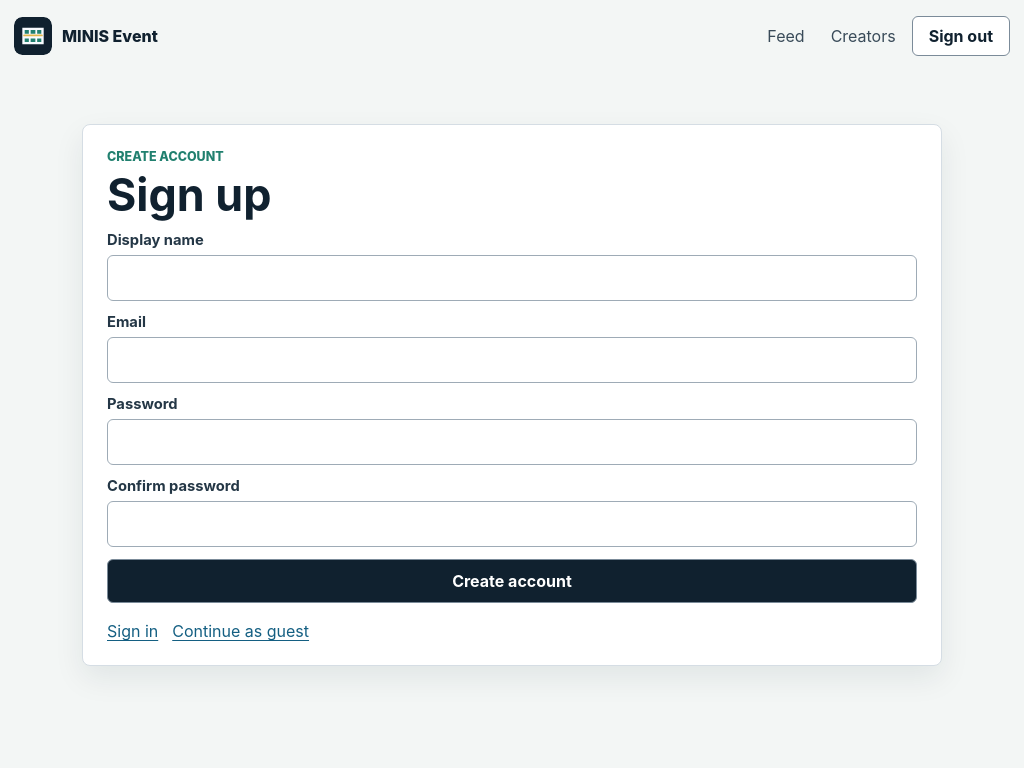
Test case: AppRoutes authentication routes › creates a Firebase password account and waits for email verification
Type "New Viewer" into the field labelled "Display name".
click(512, 278); type("New Viewer")  # box [107,255,917,301]
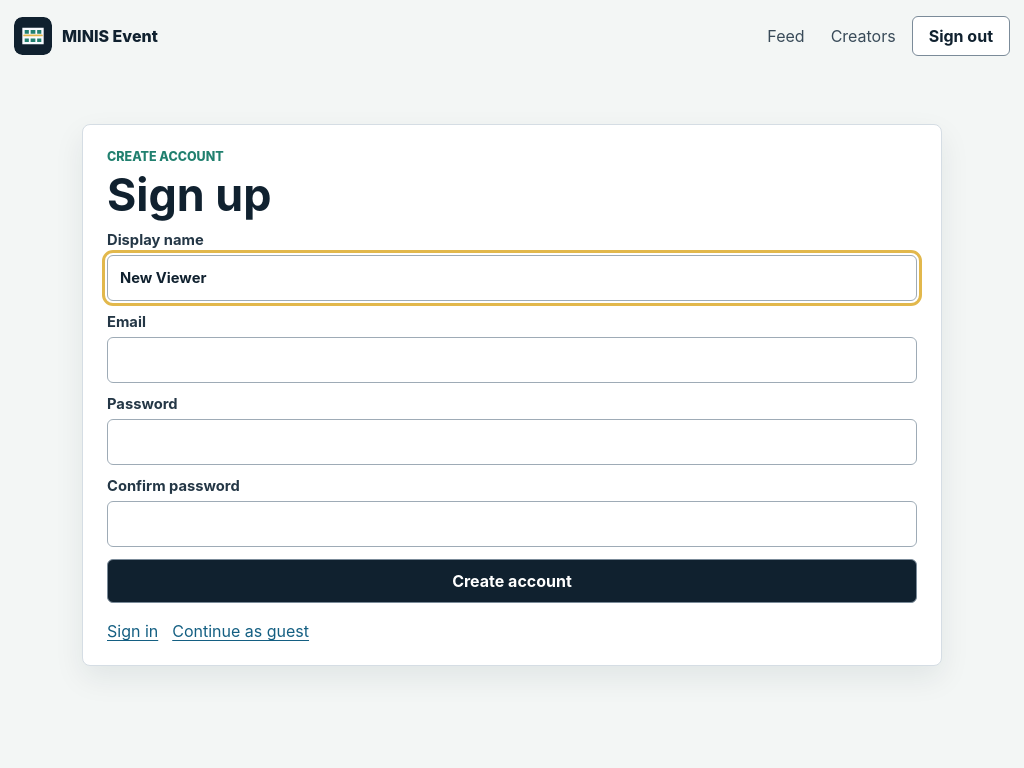
Type "NEW@example.com" into the field labelled "Email".
click(512, 360); type("NEW@example.com")  # box [107,337,917,383]
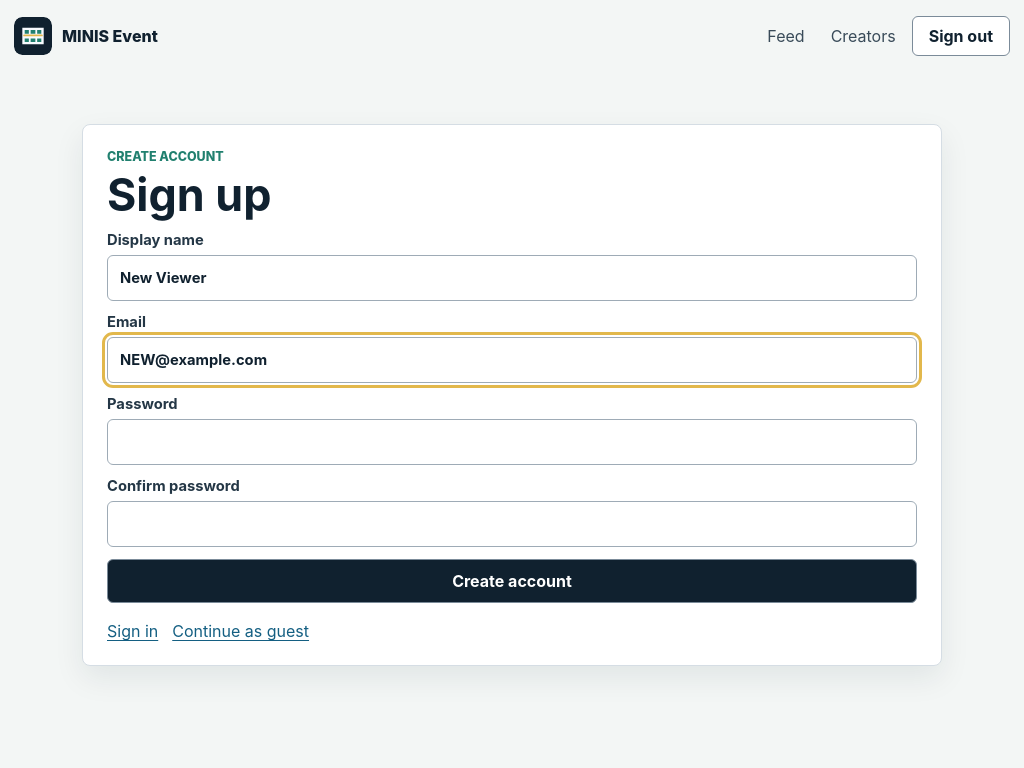
Type "viewer-password" into the password field labelled "Password".
click(512, 442); type("viewer-password")  # box [107,419,917,465]
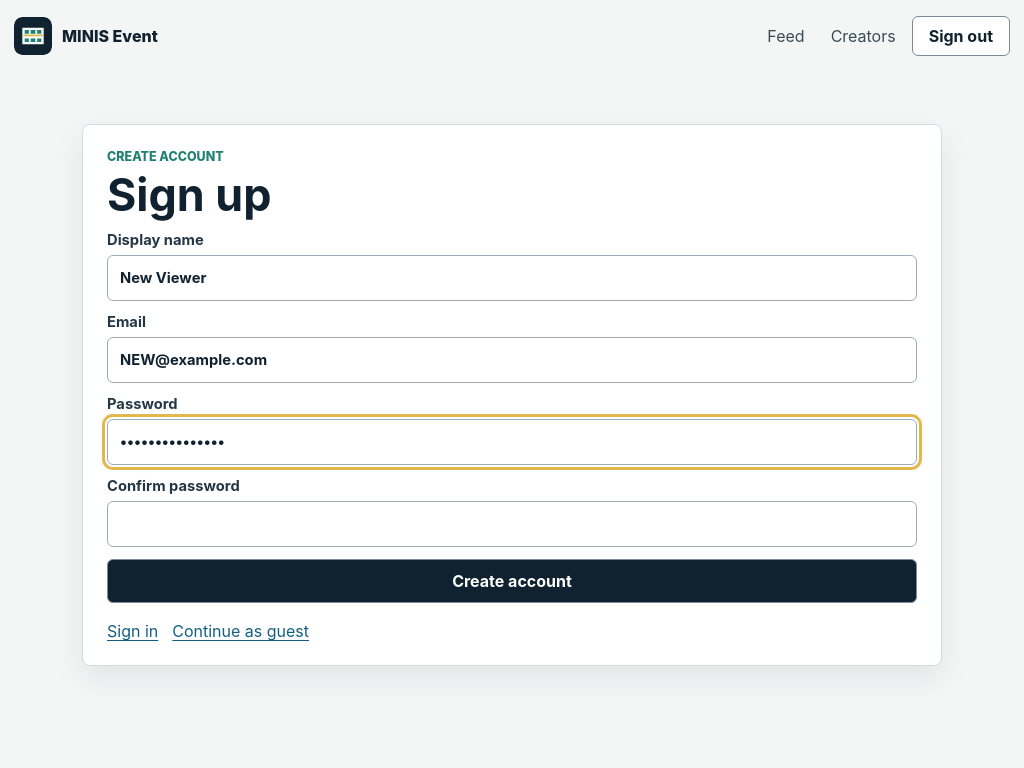
Type "viewer-password" into the password field labelled "Confirm password".
click(512, 524); type("viewer-password")  # box [107,501,917,547]
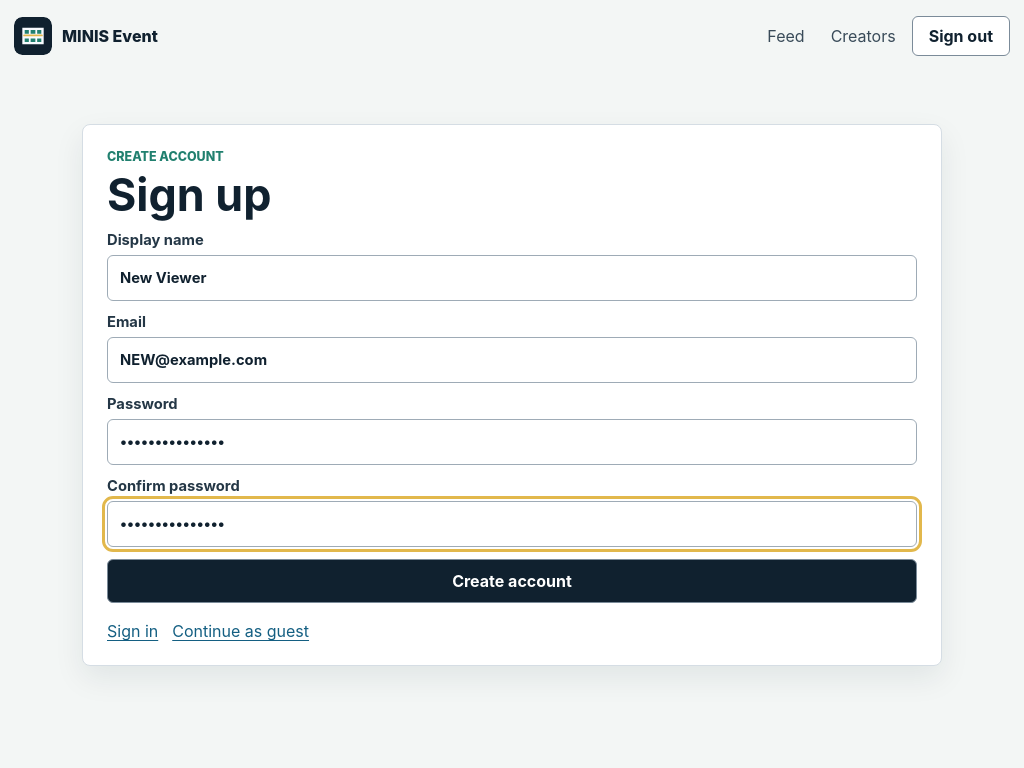
Click the button "Create account".
click(512, 581)  # box [107,559,917,603]
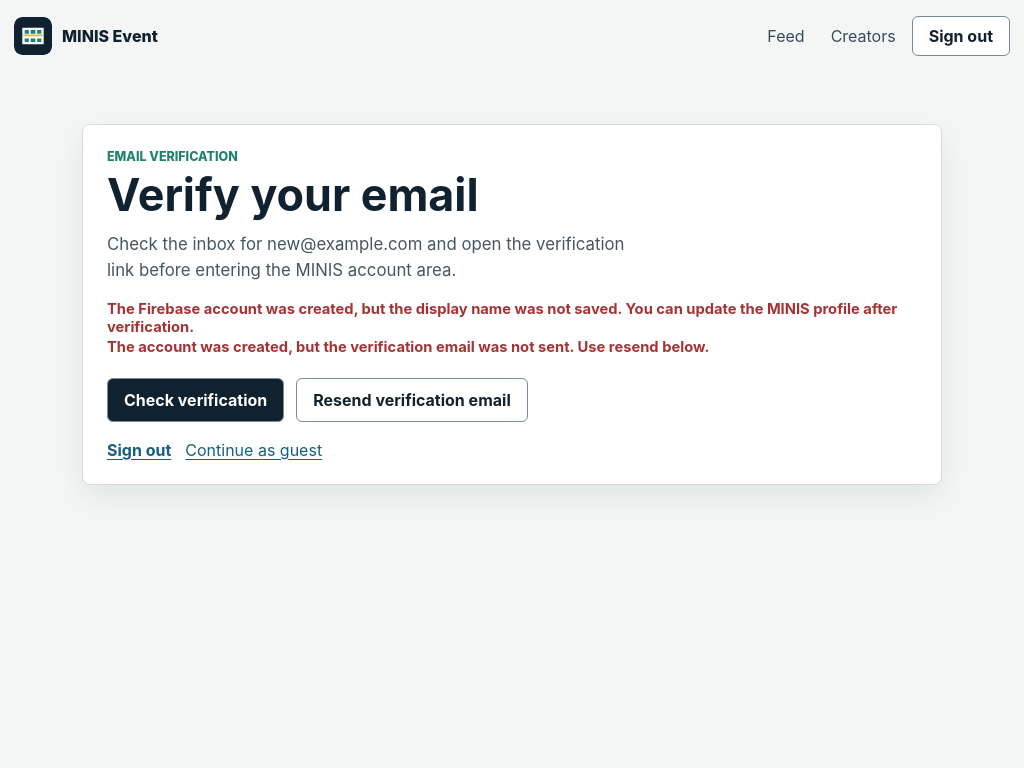
Check: the heading "Verify your email" is shown, box [107,168,479,222]
Check: the text "display name was not saved" is shown, box [107,300,897,336]
Check: the text "verification email was not sent" is shown, box [107,338,709,356]
